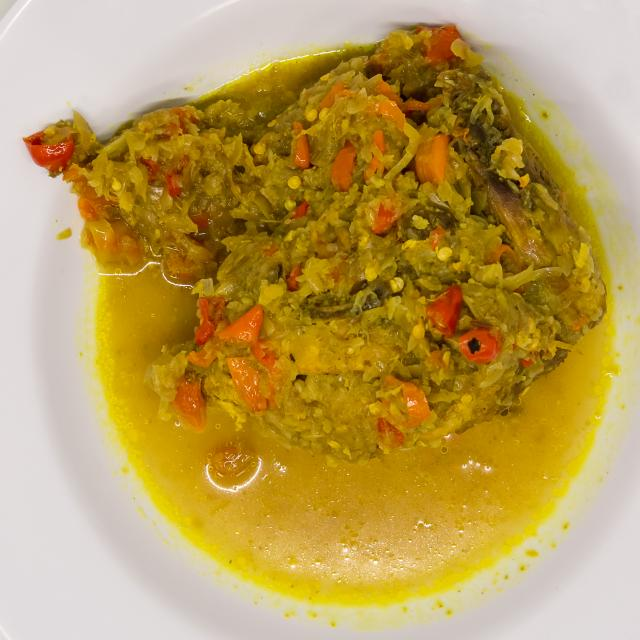Ayam-Betutu: (55, 13, 618, 473)
